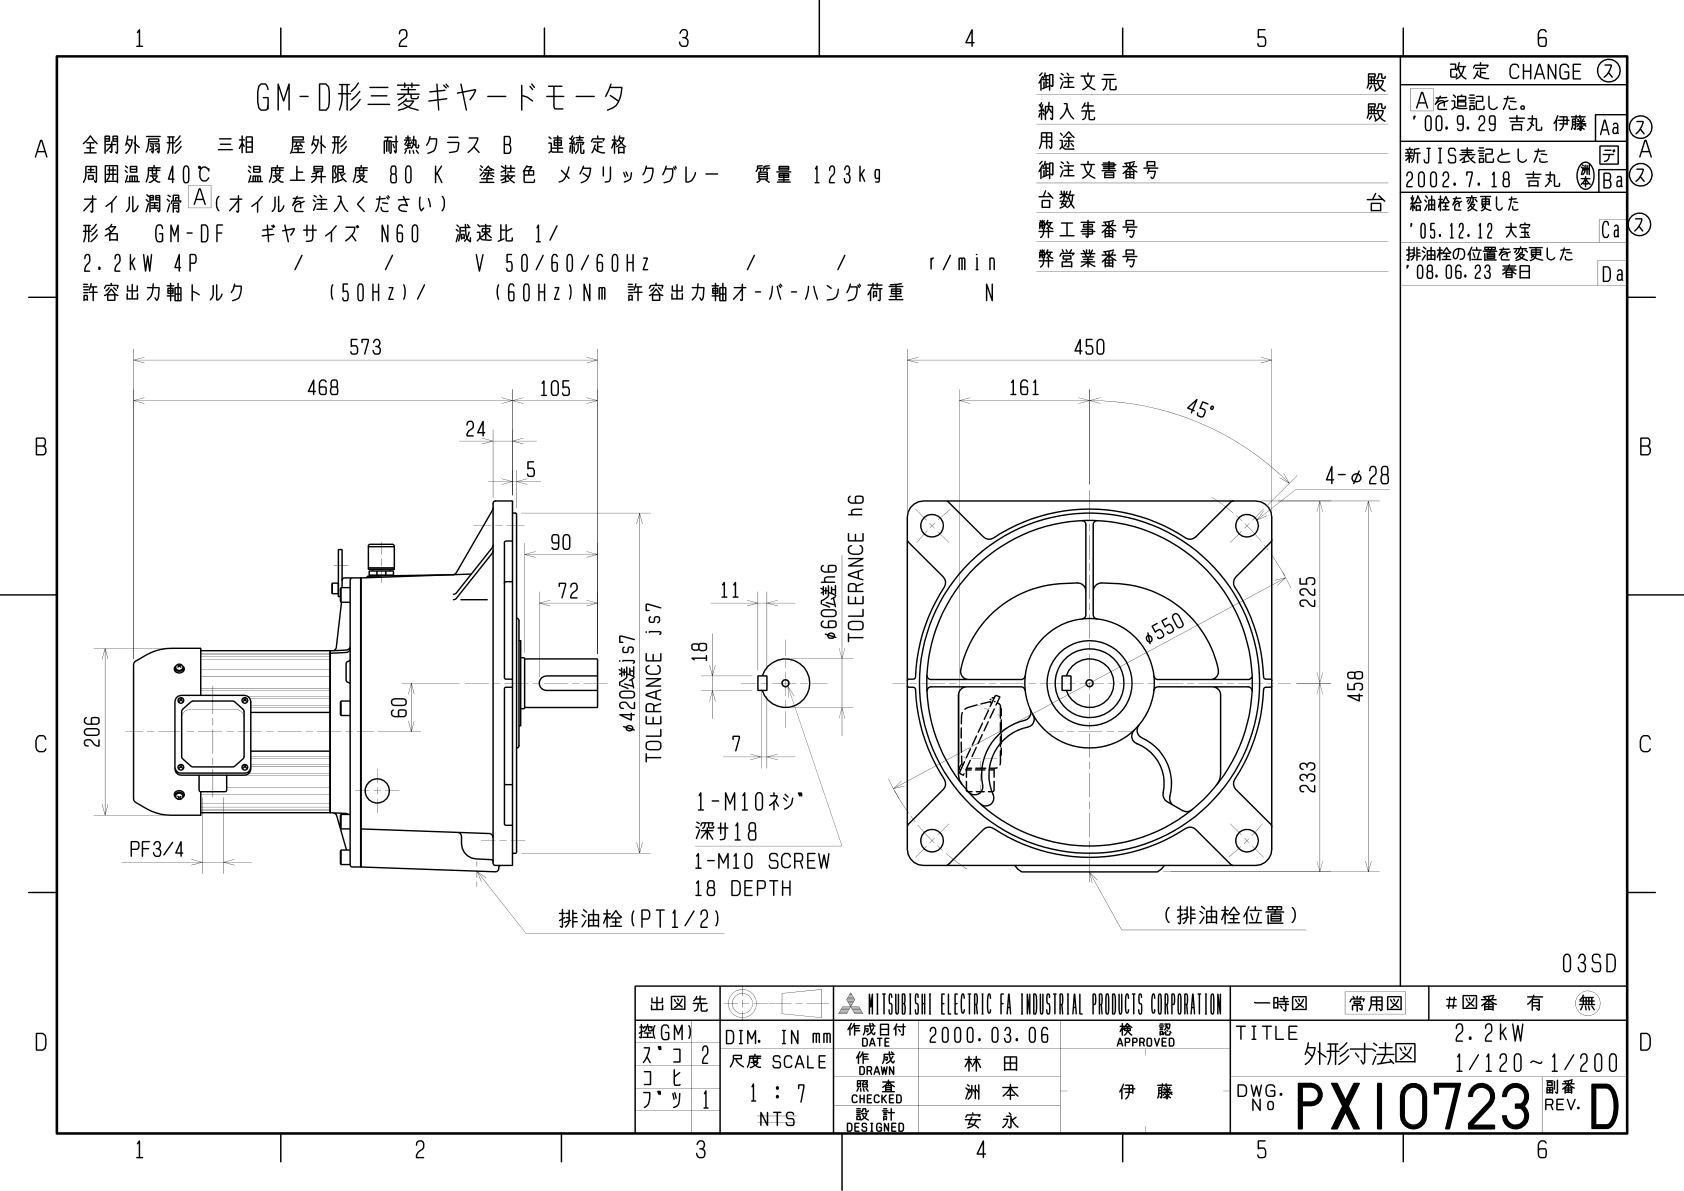GM_D_屋外＿三相_フランジ: (64, 311, 1397, 967)
